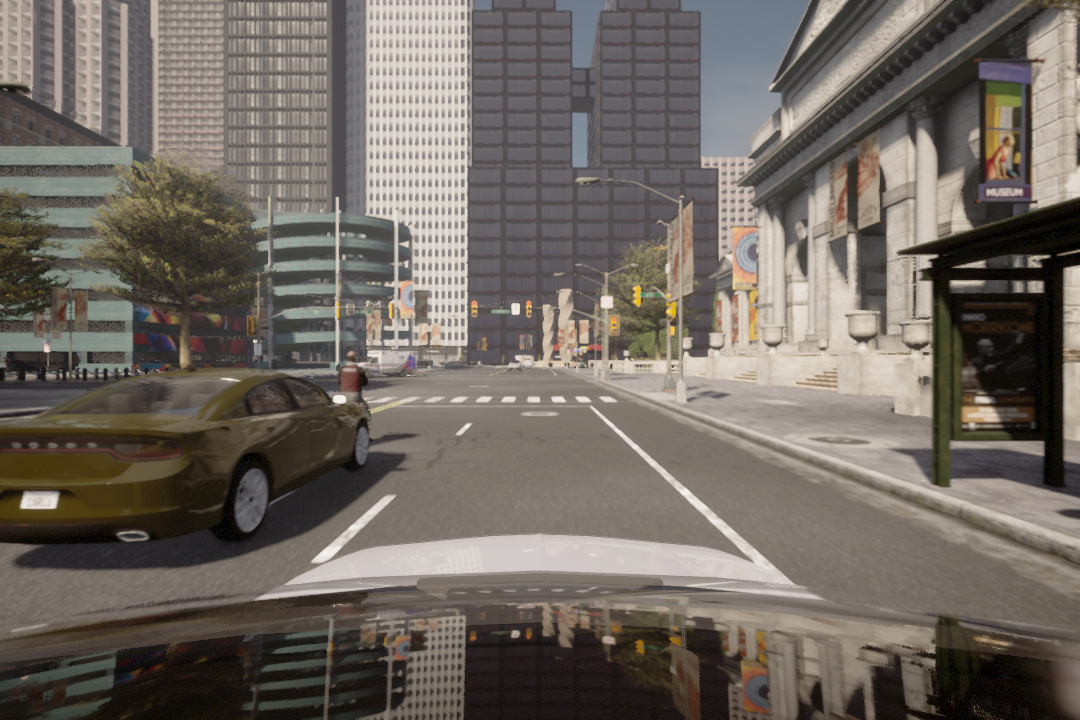TrafficLight: (608, 314, 621, 339), (470, 298, 481, 318), (524, 301, 532, 322)
walkside: (350, 393, 643, 407)
